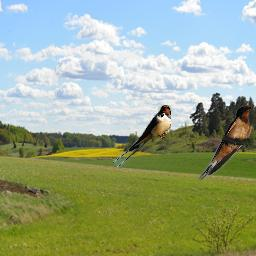Swallow: (196, 104, 255, 181), (113, 105, 171, 167)
